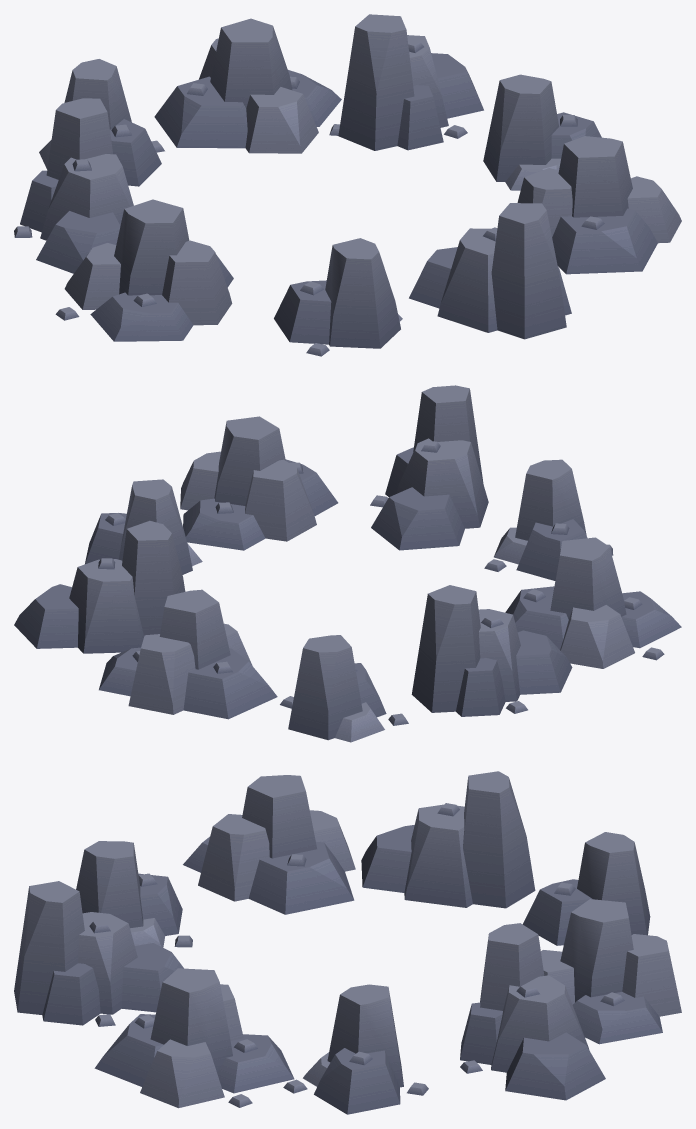
The model's file is stone_circle.glb.
The picture shows the model from 3 angles, top to bottom: view 1: azimuth 30°, elevation 25°; view 2: azimuth 150°, elevation 25°; view 3: azimuth 270°, elevation 25°; orthographic projection. The views are drawn at different scales.
Visible parts, largest first — view 1: stone_circle; view 2: stone_circle; view 3: stone_circle.
Boxes of the visible parts, box(x1,y1,x2,y2) form: stone_circle: box(14, 14, 681, 356); stone_circle: box(14, 385, 681, 742); stone_circle: box(14, 771, 681, 1114).
Bounding box in the file's own units: 17.15 × 3.06 × 17.08.
9 materials, 9 textured.
